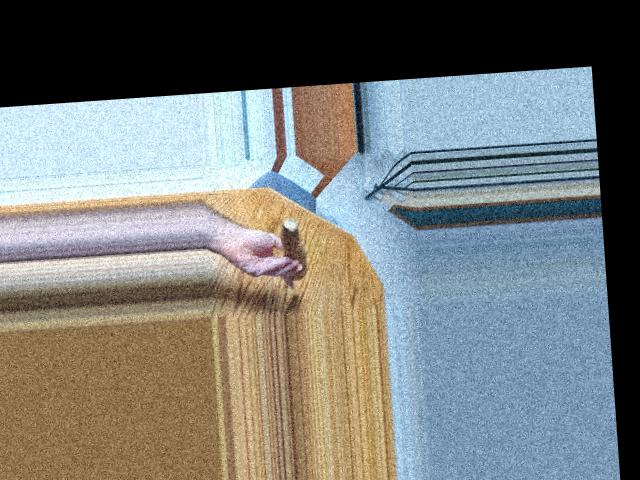sweet_potato: (273, 219, 310, 273)
